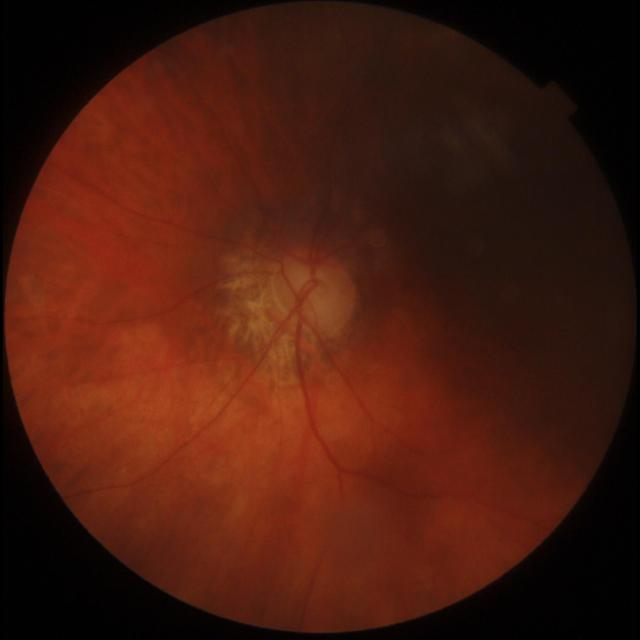OD: (270, 244, 354, 340)
